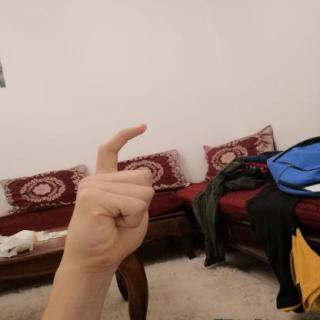RAA: (53, 118, 165, 274)
